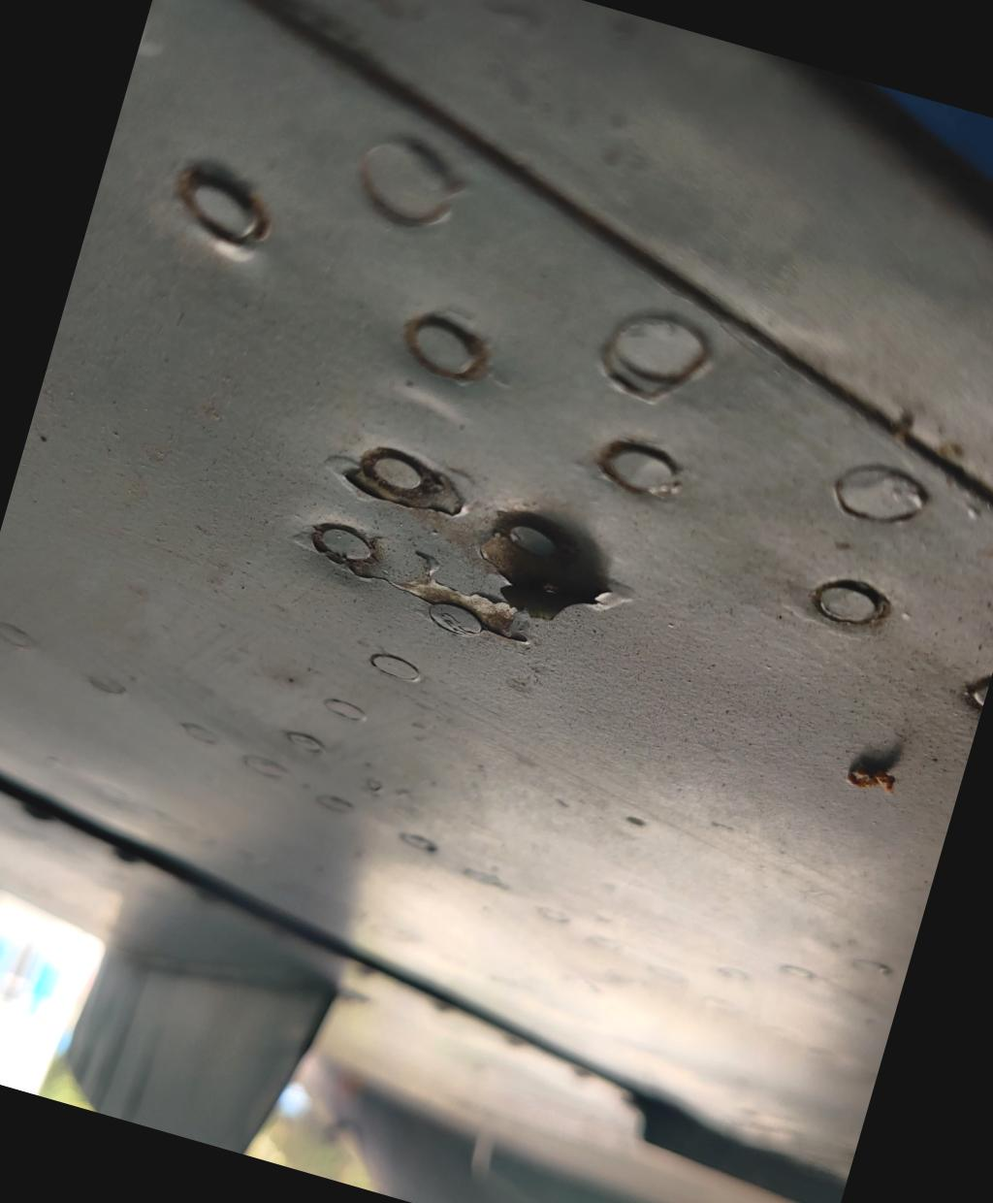corrosion: (461, 500, 617, 642)
